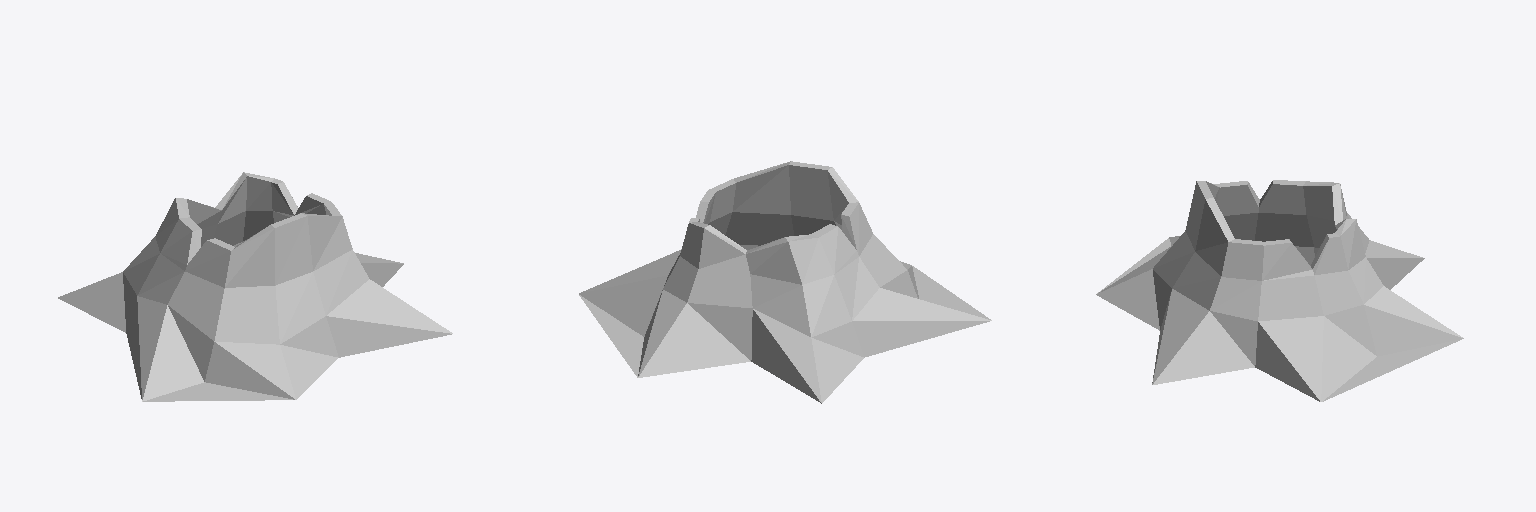
File: T3_trunk.obj
3 views of the same model, side by side, from view 1: azimuth 30°, elevation 25°; view 2: azimuth 150°, elevation 25°; view 3: azimuth 270°, elevation 25° (orthographic).
Visible parts, largest first — view 1: Stump_average_hollow_Cube.016; view 2: Stump_average_hollow_Cube.016; view 3: Stump_average_hollow_Cube.016.
Part boxes in pixels (bbox=[...]): Stump_average_hollow_Cube.016: bbox=[58, 172, 452, 401]; Stump_average_hollow_Cube.016: bbox=[579, 161, 991, 403]; Stump_average_hollow_Cube.016: bbox=[1096, 180, 1463, 401].
Size of the model in its own units: 3 by 1.08 by 2.83.